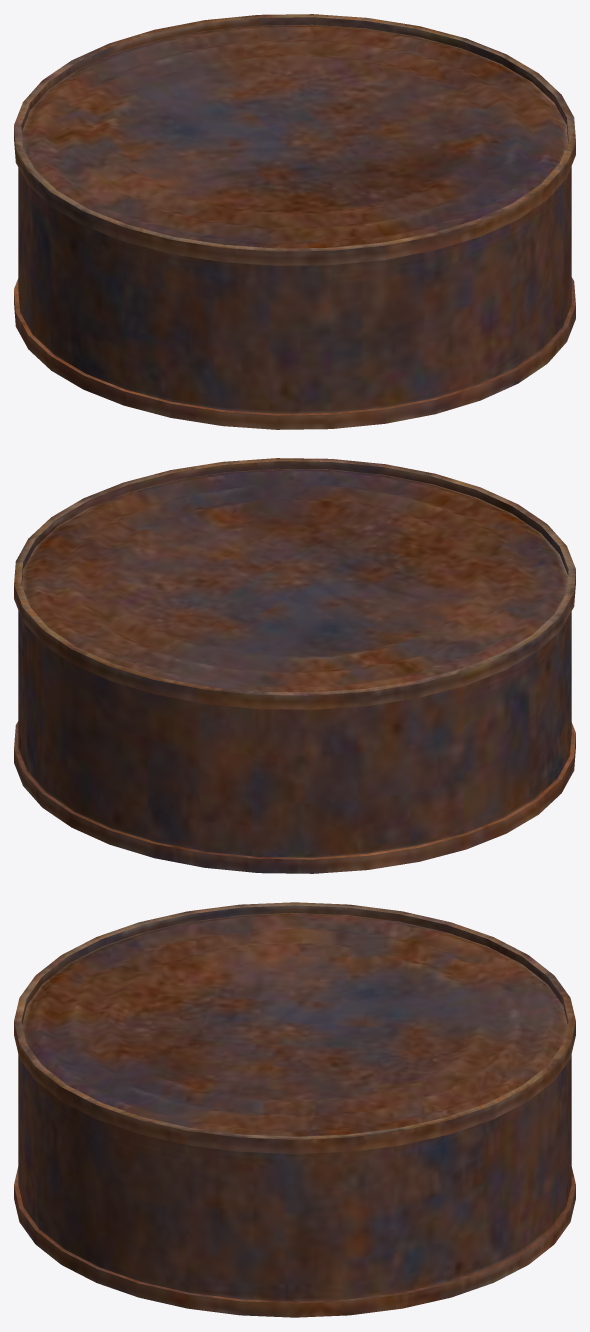
The model's file is rusty_can.glb.
The picture shows the model from 3 angles, top to bottom: view 1: azimuth 30°, elevation 25°; view 2: azimuth 150°, elevation 25°; view 3: azimuth 270°, elevation 25°; orthographic projection.
Parts seen in each view (by area): view 1: rusty_can; view 2: rusty_can; view 3: rusty_can.
Part boxes in pixels (x1,y1,x2,y2): rusty_can: (14,14,575,429); rusty_can: (14,458,575,873); rusty_can: (14,902,575,1317).
Size of what is drawn, in the model's own units: 0.12 by 0.0419 by 0.12.
1 material, 1 textured.
